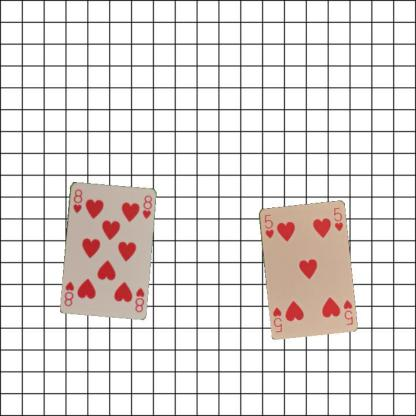5h: (340, 297, 354, 326), (262, 211, 275, 240)
8h: (132, 285, 145, 313), (71, 186, 83, 214)
